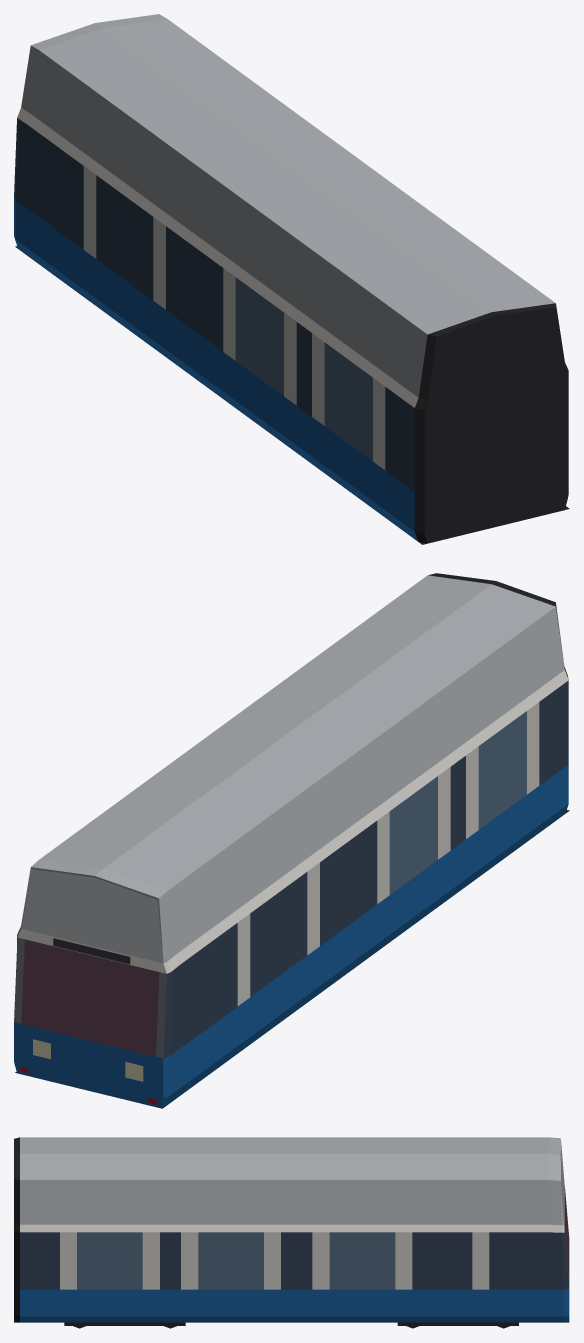
File: tram2000_kopf.glb
3 views of the same model, one above another, from view 1: azimuth 30°, elevation 25°; view 2: azimuth 150°, elevation 25°; view 3: azimuth 270°, elevation 25° (orthographic). The views are drawn at different scales.
Parts seen in each view (by area): view 1: body; view 2: body; view 3: body.
Boxes of the visible parts, x1,y1,x2,y2 form: body: [14, 14, 569, 544]; body: [14, 573, 569, 1108]; body: [14, 1137, 569, 1328].
Size of the model in its own units: 2.4 by 3.45 by 11.01.
